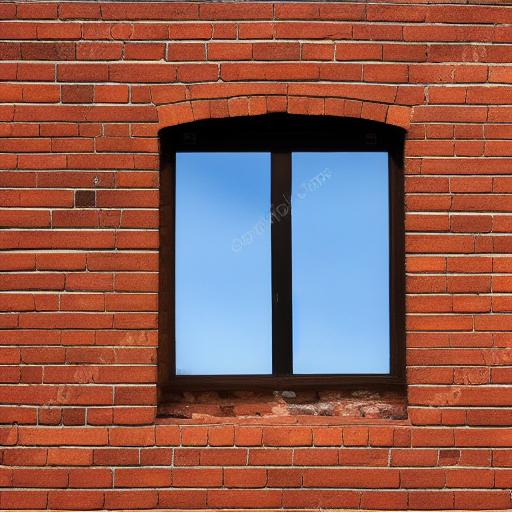Window: (158, 98, 409, 422)
